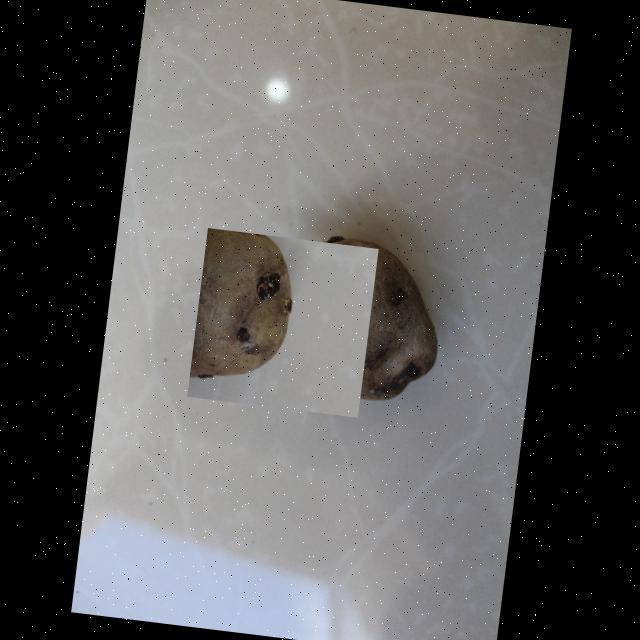Diseased-fungal potato: (186, 228, 377, 418)
